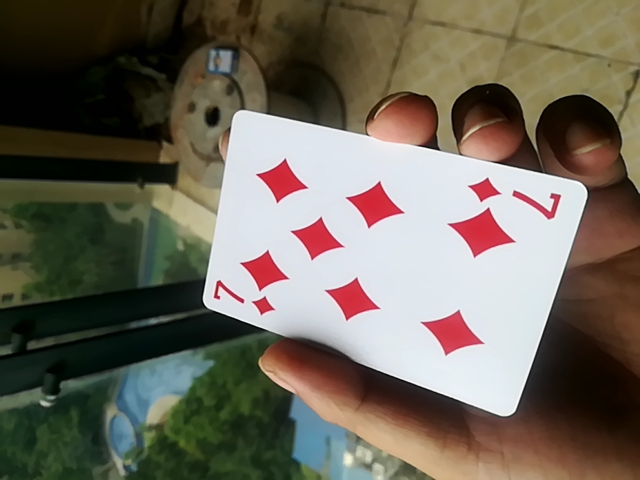fk 7: (196, 104, 592, 420)
